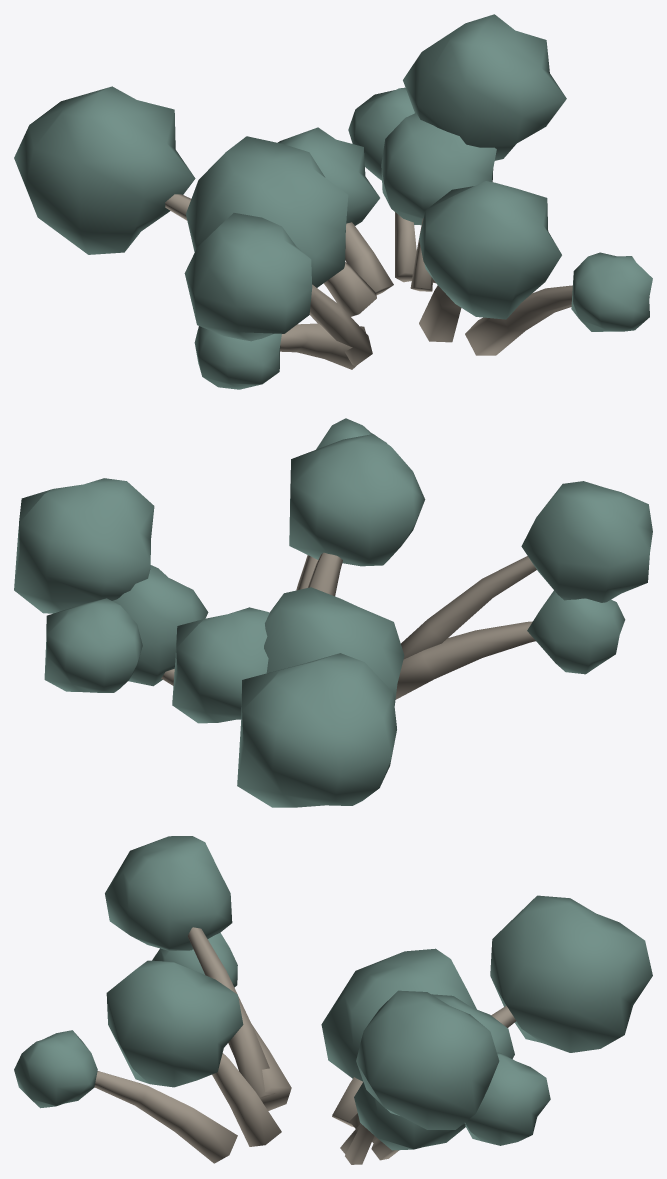
Rendered from alpine-and-arctic-biomes-juniper-mat-5c867556__20961.glb.
3 renders of one model, top to bottom at view 1: azimuth 30°, elevation 25°; view 2: azimuth 150°, elevation 25°; view 3: azimuth 270°, elevation 25°, orthographic. The views are drawn at different scales.
Visible parts, largest first — view 1: juniper-mat; view 2: juniper-mat; view 3: juniper-mat.
Part boxes in pixels (<box>): juniper-mat: <box>14,14,652,389</box>; juniper-mat: <box>14,418,652,807</box>; juniper-mat: <box>14,836,652,1164</box>.
Bounding box in the file's own units: 1.23 × 0.5401 × 1.47.
